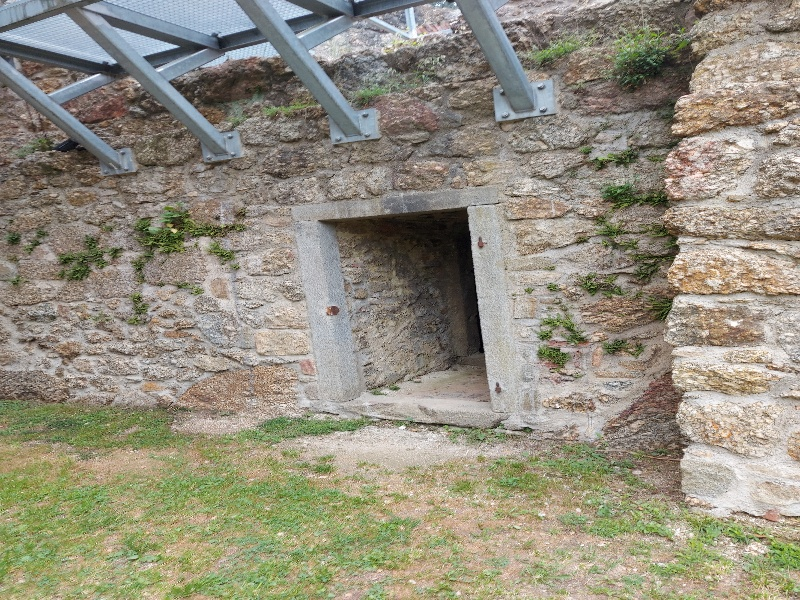door1: (274, 188, 548, 444)
